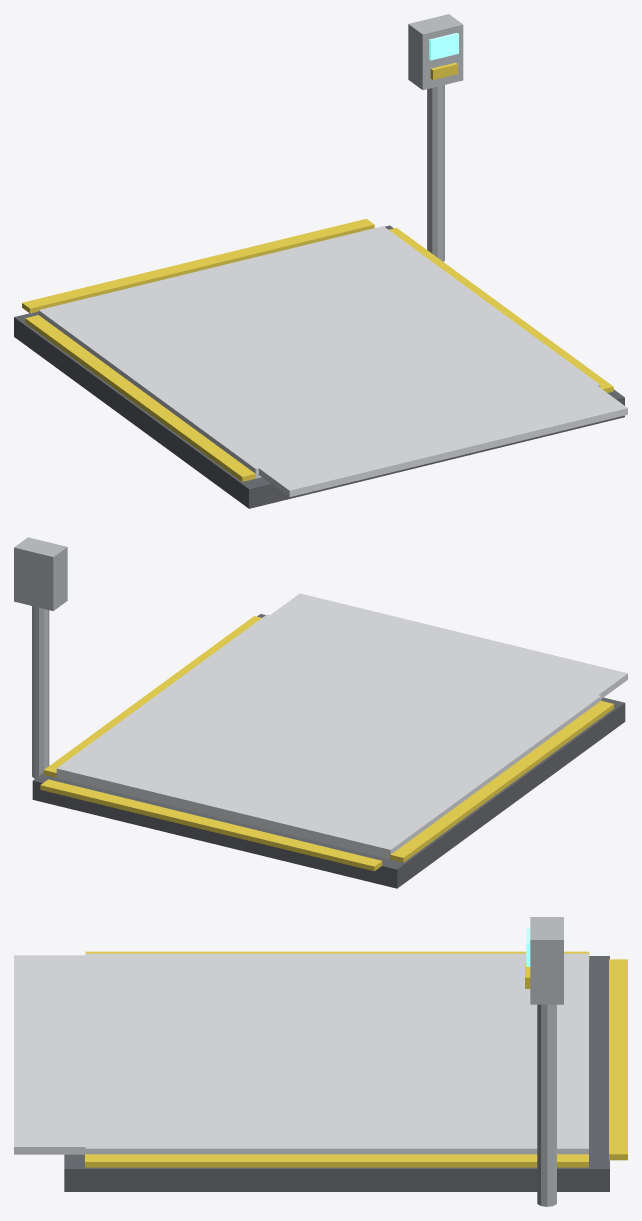
File: dock-leveller-plate.glb
3 renders of one model, top to bottom at view 1: azimuth 30°, elevation 25°; view 2: azimuth 150°, elevation 25°; view 3: azimuth 270°, elevation 25°, orthographic. The views are drawn at different scales.
Parts seen in each view (by area): view 1: parcel-depot-and-sorting-hall-dock-leveller-plate; view 2: parcel-depot-and-sorting-hall-dock-leveller-plate; view 3: parcel-depot-and-sorting-hall-dock-leveller-plate.
Part boxes in pixels (left/top/right/bottom): parcel-depot-and-sorting-hall-dock-leveller-plate: left=14, top=14, right=627, bottom=508; parcel-depot-and-sorting-hall-dock-leveller-plate: left=14, top=537, right=627, bottom=888; parcel-depot-and-sorting-hall-dock-leveller-plate: left=14, top=917, right=627, bottom=1206.
Bounding box in the file's own units: 2.65 × 1.44 × 2.92.
